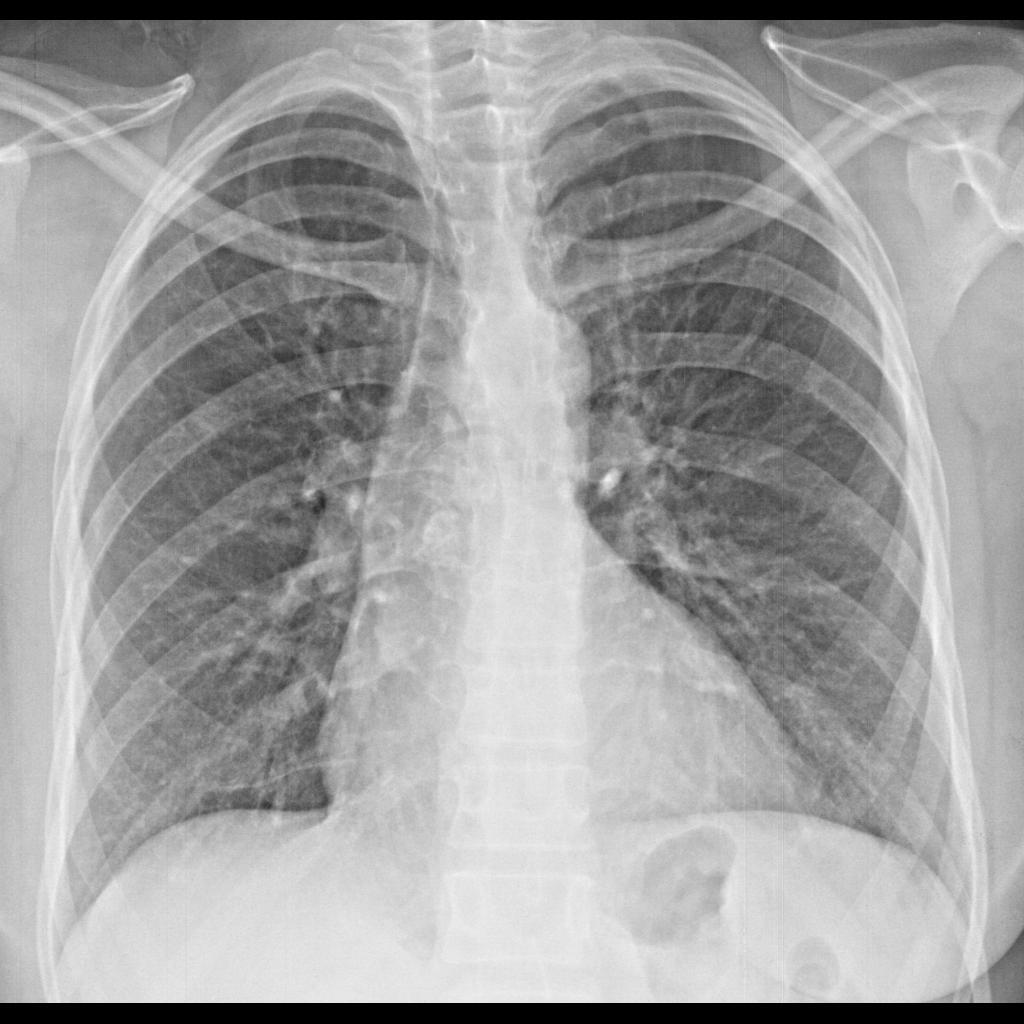Nodule: (183, 395, 228, 440)
